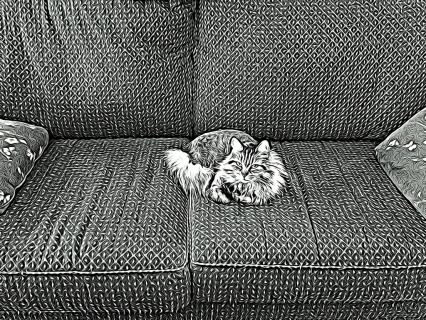Cat: (156, 126, 299, 207)
